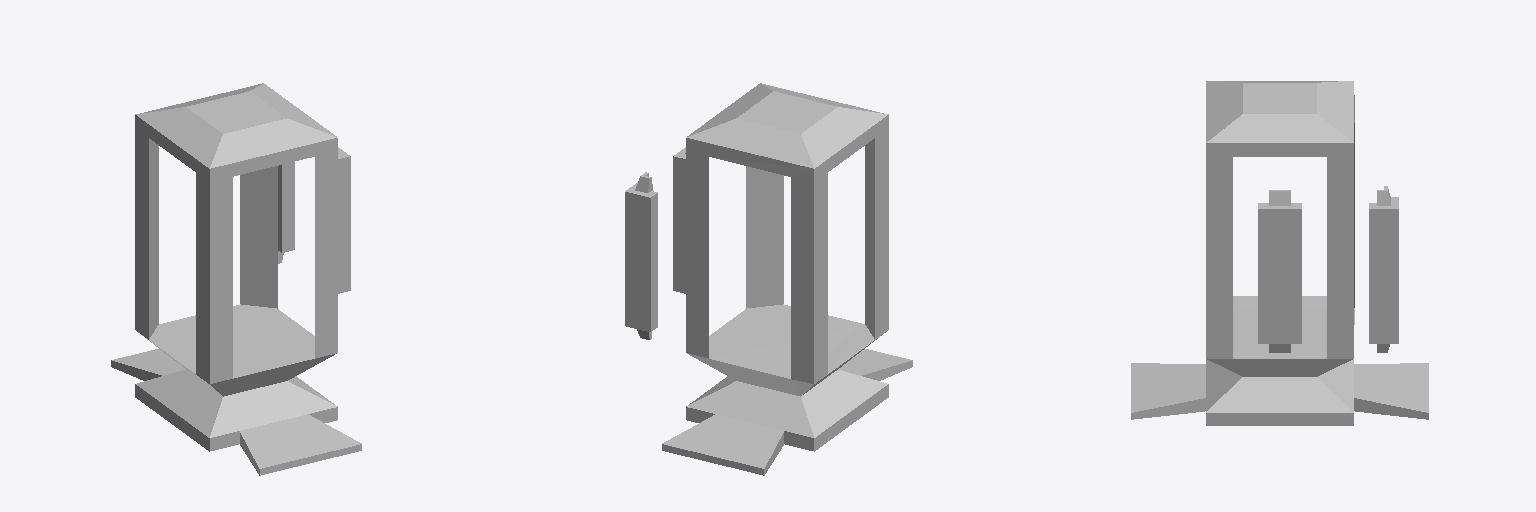
The model's file is generator.obj.
3 views of the same model, side by side, from view 1: azimuth 30°, elevation 25°; view 2: azimuth 150°, elevation 25°; view 3: azimuth 270°, elevation 25° (orthographic).
Parts seen in each view (by area): view 1: Generator, Pylon1, Pylon2; view 2: Generator, Pylon2, Pylon1; view 3: Generator, Pylon1, Pylon2.
Boxes of the visible parts, box(x1,y1,x2,y2) form: Generator: box(111, 83, 361, 475); Pylon1: box(338, 147, 350, 293); Pylon2: box(278, 162, 294, 263); Generator: box(662, 83, 912, 475); Pylon2: box(625, 172, 657, 339); Pylon1: box(673, 147, 685, 293); Generator: box(1131, 81, 1428, 425); Pylon1: box(1258, 190, 1301, 352); Pylon2: box(1369, 186, 1398, 352).
Size of the model in its own units: 2.6 by 4.4 by 4.